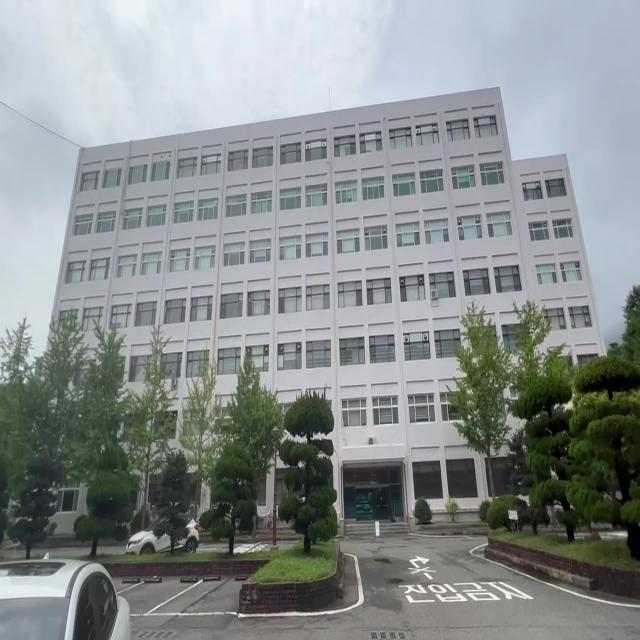building: (63, 126, 521, 316)
